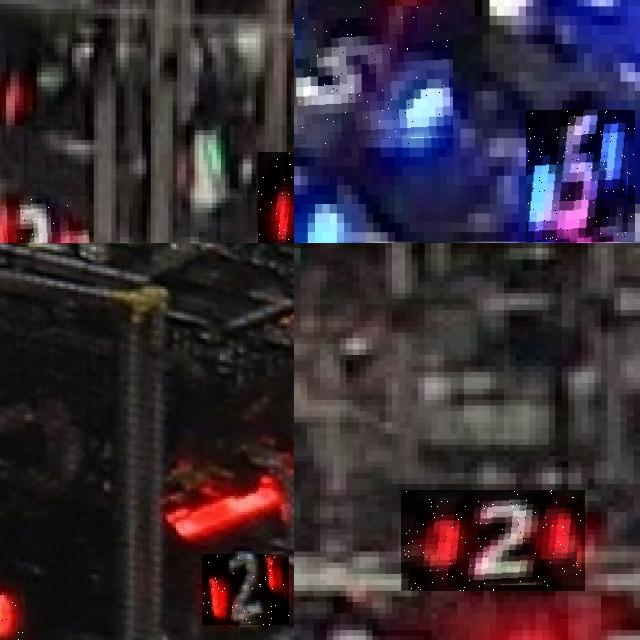B5: (294, 6, 453, 147), (526, 110, 635, 242), (294, 147, 344, 243)
R2: (401, 490, 585, 591), (202, 554, 289, 625), (0, 195, 89, 243), (258, 152, 294, 243)
